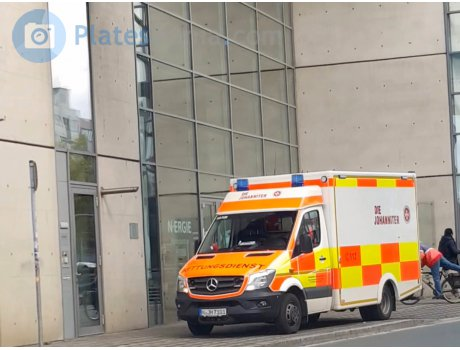License Plates: (201, 303, 232, 320)
